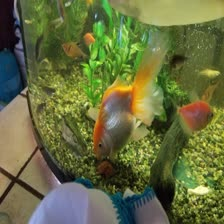Cuezo: (93, 32, 168, 155)
Guppy: (32, 28, 49, 59), (38, 77, 62, 94)
Plano: (172, 94, 217, 134), (81, 29, 98, 45)
Transparente: (61, 43, 87, 62)
